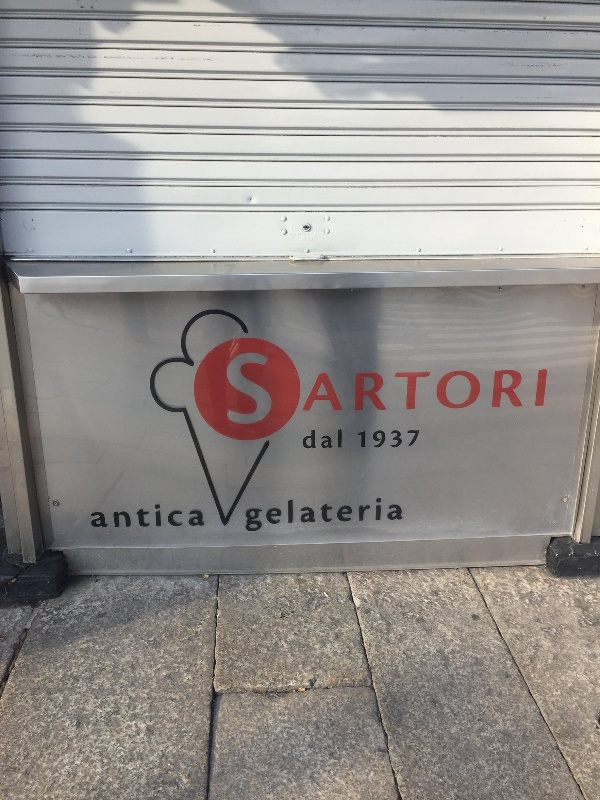text: (225, 350, 240, 431), (241, 350, 256, 431), (257, 350, 272, 431), (321, 370, 336, 413), (337, 370, 352, 413), (353, 370, 368, 413), (369, 370, 384, 413), (385, 370, 400, 413), (401, 370, 416, 413), (417, 370, 432, 413), (433, 370, 448, 413), (449, 370, 464, 413), (465, 370, 480, 413), (481, 370, 496, 413), (497, 370, 512, 413), (513, 370, 528, 413), (529, 370, 544, 413), (257, 495, 272, 536), (273, 495, 288, 536), (289, 495, 304, 536), (305, 495, 320, 536), (321, 495, 336, 536), (337, 495, 352, 536), (353, 495, 368, 536), (369, 495, 384, 536), (385, 495, 400, 536), (369, 427, 384, 455), (385, 427, 400, 455), (401, 427, 416, 455), (246, 495, 256, 536), (97, 505, 112, 531), (113, 505, 128, 531), (129, 505, 144, 531), (145, 505, 160, 531), (161, 505, 176, 531), (177, 505, 192, 531), (321, 430, 336, 455), (355, 427, 368, 455), (307, 430, 320, 455), (193, 505, 205, 531), (545, 370, 550, 413), (417, 427, 424, 455), (89, 505, 96, 531), (337, 430, 344, 455), (401, 495, 403, 536), (273, 350, 274, 431), (319, 370, 320, 413)
